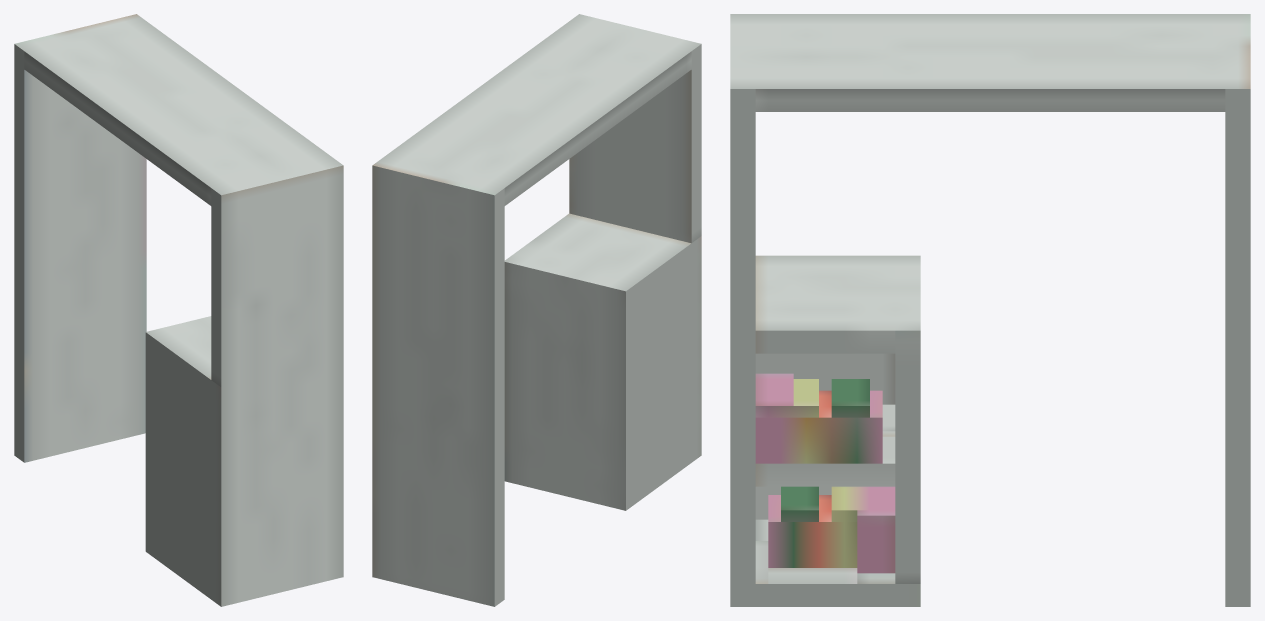
Rendered from LargeBookshelfAndBedFrame_00.obj.
3 views of the same model, side by side, from view 1: azimuth 30°, elevation 25°; view 2: azimuth 150°, elevation 25°; view 3: azimuth 270°, elevation 25° (orthographic). The views are drawn at different scales.
Parts seen in each view (by area): view 1: LargeBookshelfAndBedFrame_00; view 2: LargeBookshelfAndBedFrame_00; view 3: LargeBookshelfAndBedFrame_00.
Boxes of the visible parts, <box> form: LargeBookshelfAndBedFrame_00: <box>14,14,343,606</box>; LargeBookshelfAndBedFrame_00: <box>372,14,701,606</box>; LargeBookshelfAndBedFrame_00: <box>730,14,1250,606</box>.
Size of the model in its own units: 0.7 by 2.25 by 2.05.
